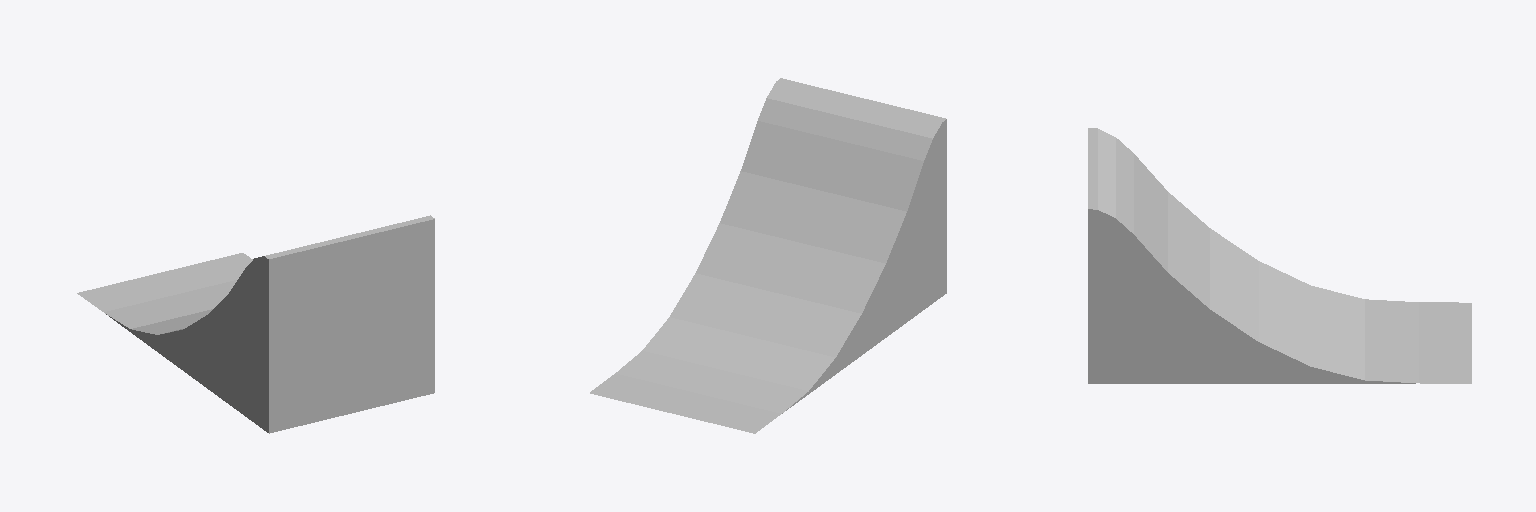
File: Quater_SML_Drop_Half.obj
3 views of the same model, side by side, from view 1: azimuth 30°, elevation 25°; view 2: azimuth 150°, elevation 25°; view 3: azimuth 270°, elevation 25° (orthographic).
Parts seen in each view (by area): view 1: Quater_SML_Drop_Half; view 2: Quater_SML_Drop_Half; view 3: Quater_SML_Drop_Half.
Boxes of the visible parts, <box> form: Quater_SML_Drop_Half: <box>77,215,434,433</box>; Quater_SML_Drop_Half: <box>590,78,946,433</box>; Quater_SML_Drop_Half: <box>1088,128,1471,383</box>.
Size of the model in its own units: 5 by 5 by 10.